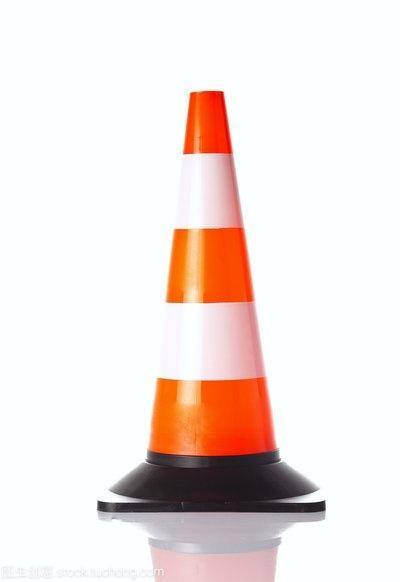cone_barrel: (128, 95, 303, 494)
